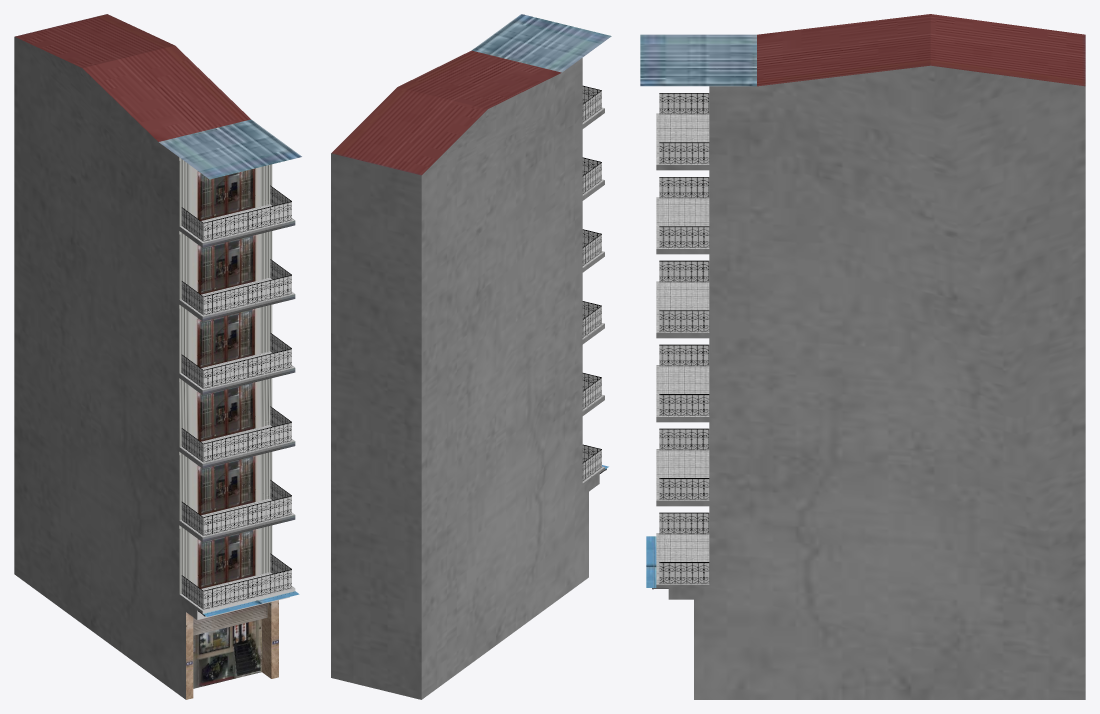
The picture shows the model from 3 angles, left to right: view 1: azimuth 30°, elevation 25°; view 2: azimuth 150°, elevation 25°; view 3: azimuth 270°, elevation 25°; orthographic projection. The views are drawn at different scales.
Visible parts, largest first — view 1: HN1056___Vietsoftpro_HeadOffice; view 2: HN1056___Vietsoftpro_HeadOffice; view 3: HN1056___Vietsoftpro_HeadOffice.
Part boxes in pixels (<box>): HN1056___Vietsoftpro_HeadOffice: <box>14,14,301,699</box>; HN1056___Vietsoftpro_HeadOffice: <box>331,14,611,699</box>; HN1056___Vietsoftpro_HeadOffice: <box>640,14,1085,699</box>.
Size of the model in its own units: 4.9 by 28.03 by 17.84.
1 material, 1 textured.
